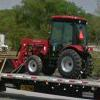Tractor: (10, 10, 92, 83)
